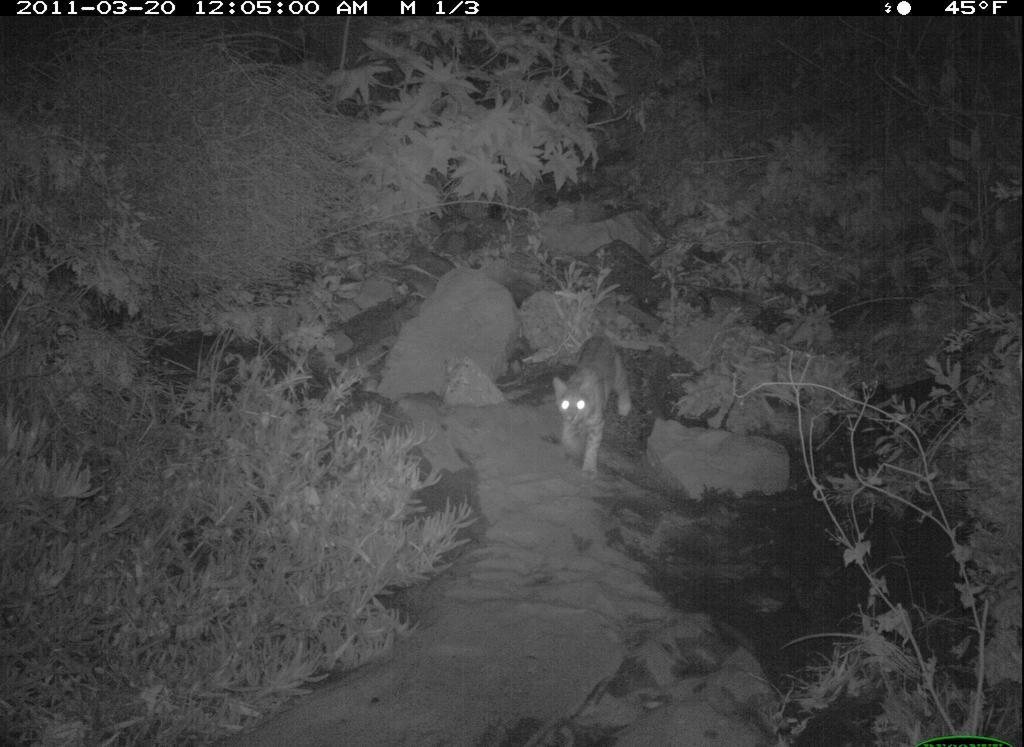bobcat: (545, 329, 637, 483)
